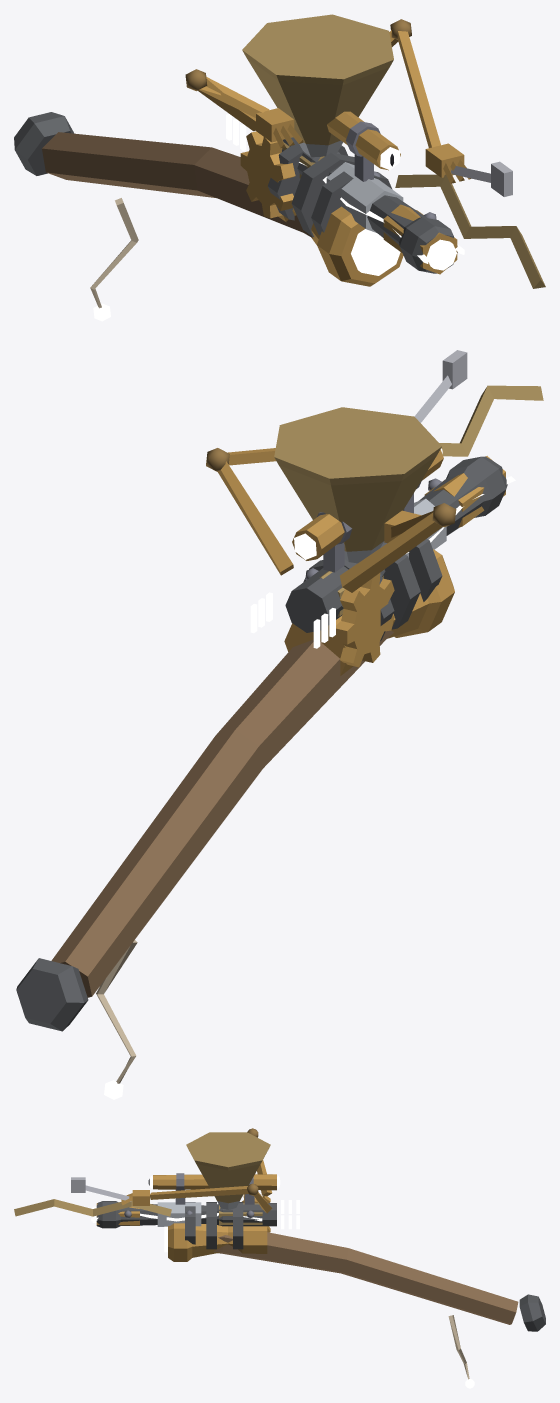
Rendered from gun-tinkers-piece.glb.
3 views of the same model, one above another, from view 1: azimuth 30°, elevation 25°; view 2: azimuth 150°, elevation 25°; view 3: azimuth 270°, elevation 25° (orthographic). The views are drawn at different scales.
Visible parts, largest first — view 1: gun-tinkers-piece, sway_sinew, pulse_breath; view 2: gun-tinkers-piece, sway_sinew, pulse_breath; view 3: gun-tinkers-piece, sway_sinew, pulse_breath.
Part boxes in pixels (<box>): gun-tinkers-piece: <box>14,14,545,288</box>; sway_sinew: <box>90,198,138,321</box>; pulse_breath: <box>226,114,246,150</box>; gun-tinkers-piece: <box>16,350,543,1031</box>; sway_sinew: <box>96,940,137,1099</box>; pulse_breath: <box>250,592,335,648</box>; gun-tinkers-piece: <box>14,1128,545,1331</box>; sway_sinew: <box>448,1315,474,1388</box>; pulse_breath: <box>281,1200,299,1229</box>.
Bounding box in the file's own units: 0.295 × 0.5466 × 1.1.
